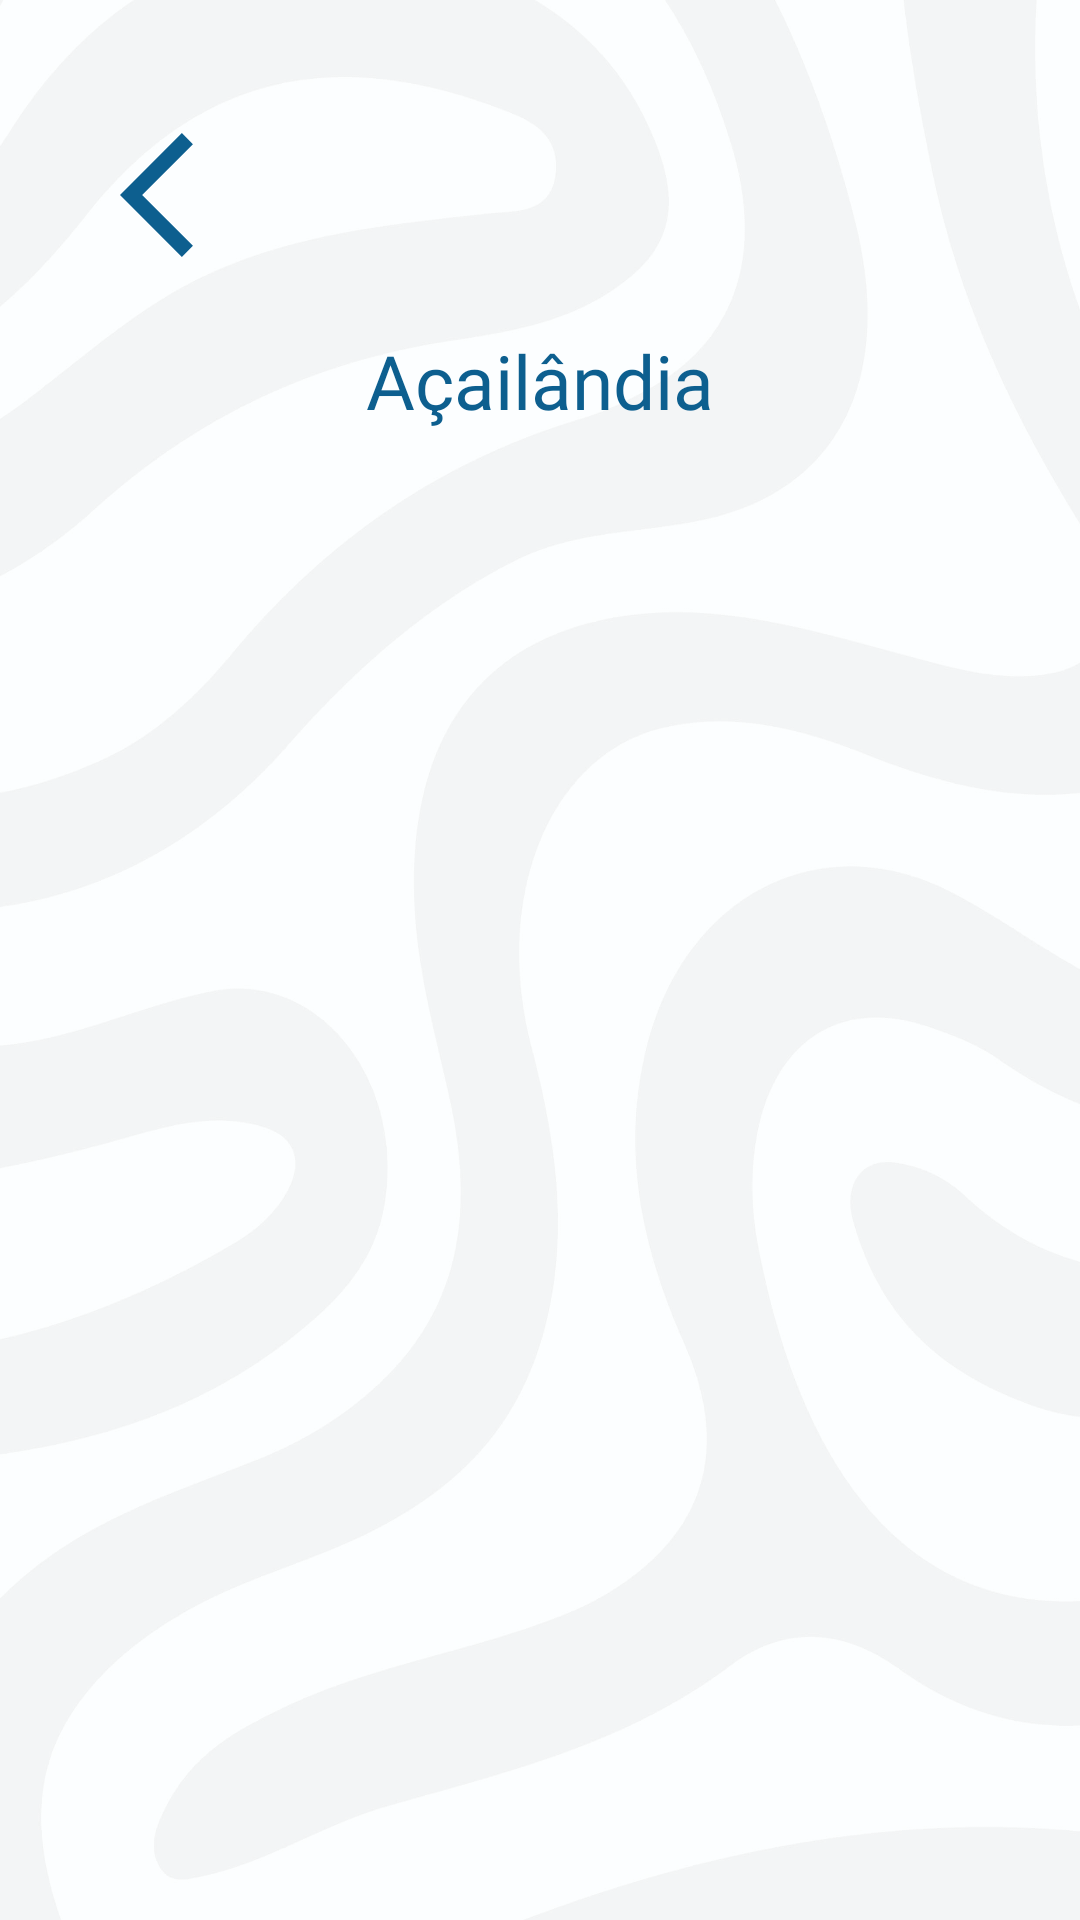

Screen size 1080w x 1920h. Icon name, then its box in pixels as (x1=x1, y1=y1, x2=x2, y2=y2):
voltar: (x1=120, y1=133, x2=193, y2=257)
